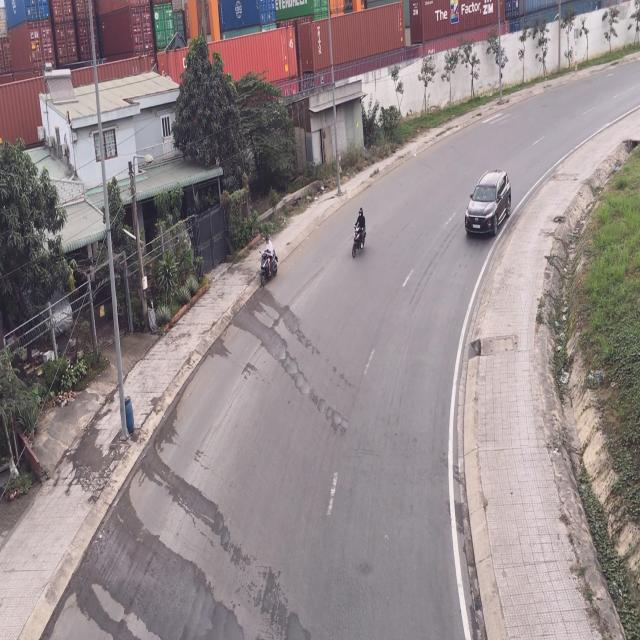car: (465, 171, 512, 240)
motorbike: (350, 206, 368, 262), (261, 239, 280, 288)
